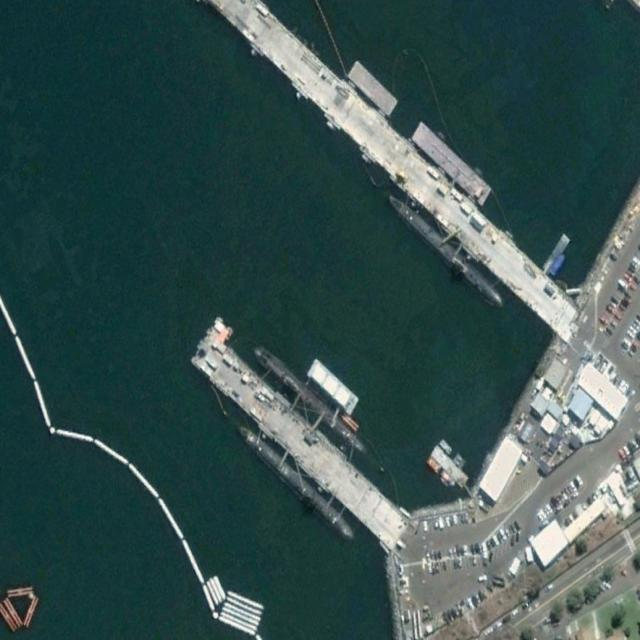Submarine: (230, 417, 361, 549), (382, 187, 510, 316), (248, 340, 371, 461)
